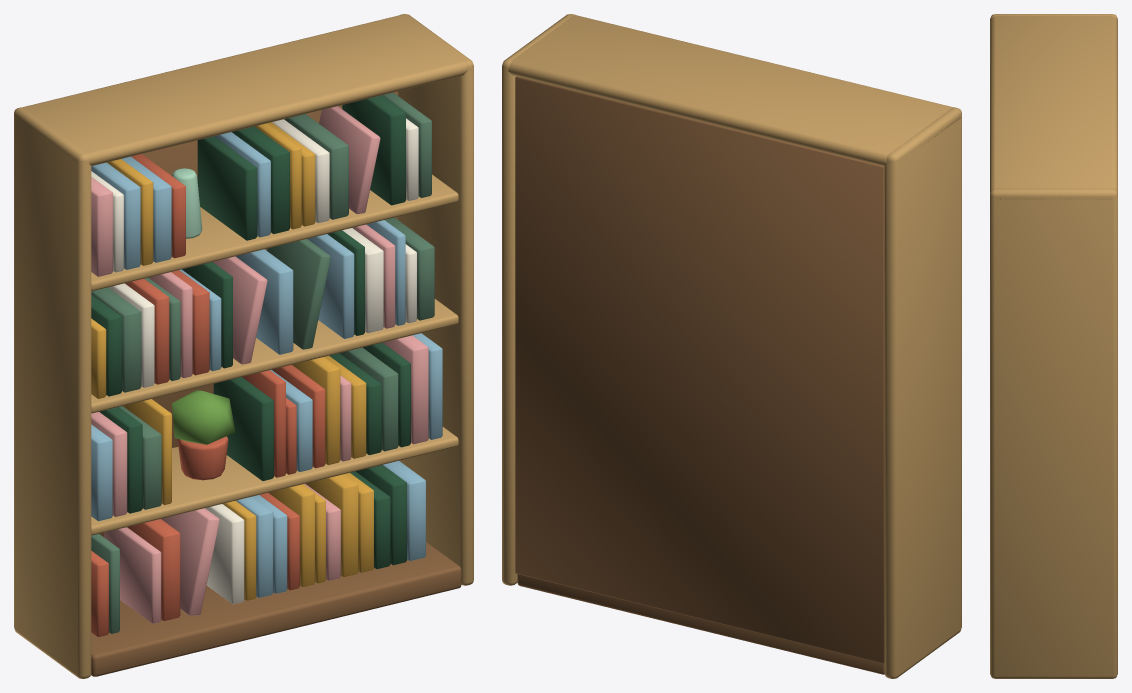
File: bookshelf.glb
The picture shows the model from 3 angles, left to right: view 1: azimuth 30°, elevation 25°; view 2: azimuth 150°, elevation 25°; view 3: azimuth 270°, elevation 25°; orthographic projection. The views are drawn at different scales.
Parts seen in each view (by area): view 1: bookshelf; view 2: bookshelf; view 3: bookshelf.
Boxes of the visible parts, left/top/right/bottom form: bookshelf: left=14, top=14, right=473, bottom=678; bookshelf: left=502, top=14, right=961, bottom=678; bookshelf: left=990, top=14, right=1117, bottom=678.
Size of the model in its own units: 1.5 by 1.9 by 0.45.
1 material, 1 textured.
